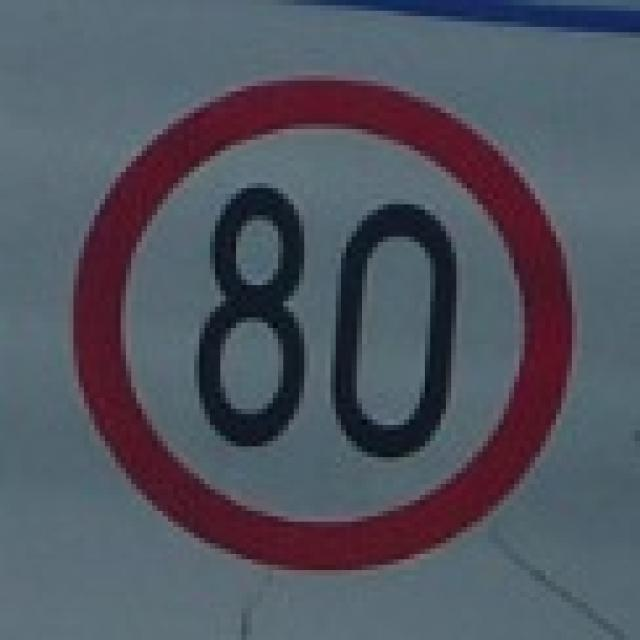Speed Limit -80-: (187, 185, 468, 468)
